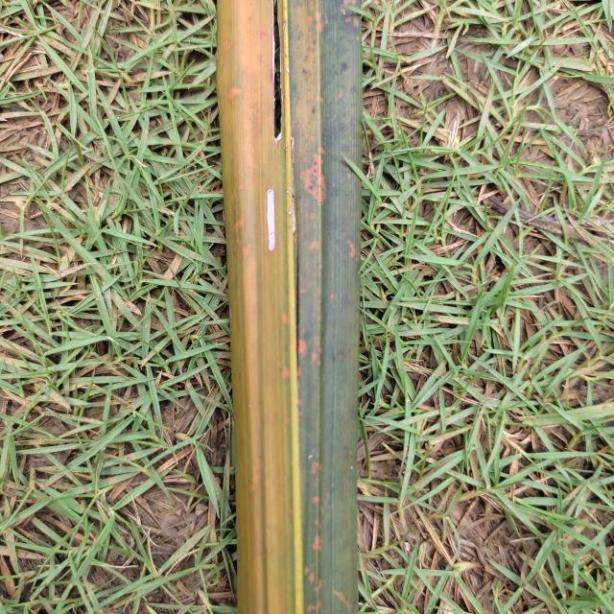Megnesium: (214, 0, 365, 614)
